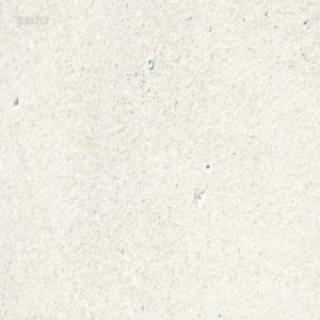Washertrack_idkeyframe: (146, 57, 153, 68)
